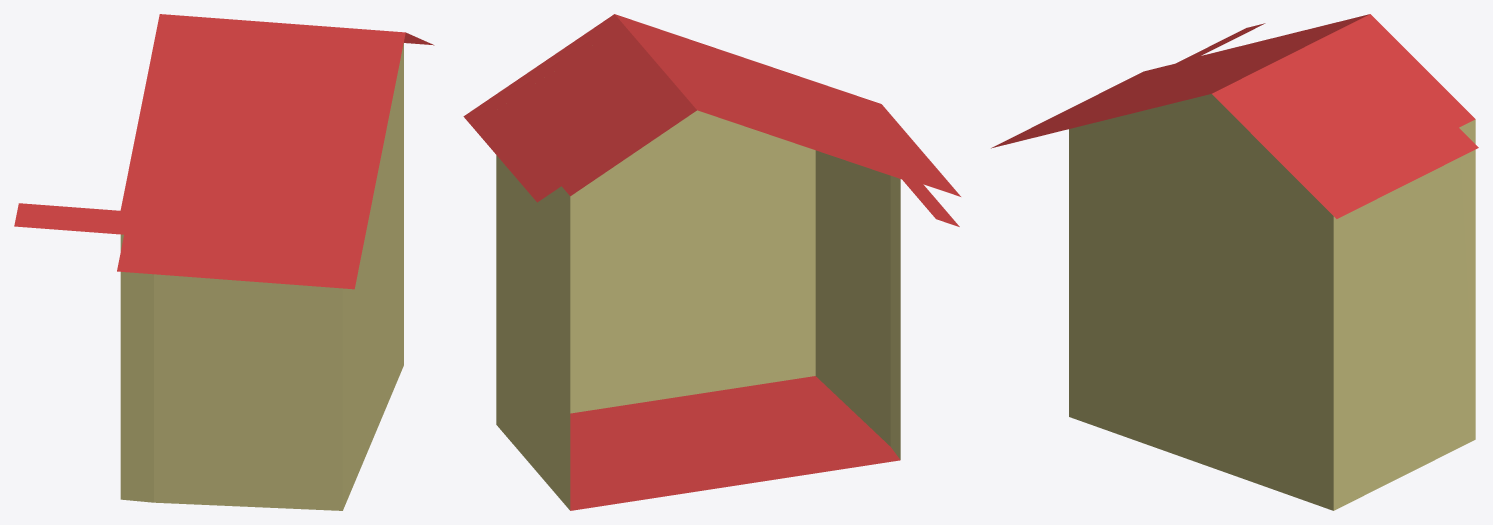
3 views of the same model, side by side, from view 1: azimuth 30°, elevation 25°; view 2: azimuth 150°, elevation 25°; view 3: azimuth 270°, elevation 25° (orthographic). The views are drawn at different scales.
Bounding box in the file's own units: 15.19 × 13.95 × 12.22.
